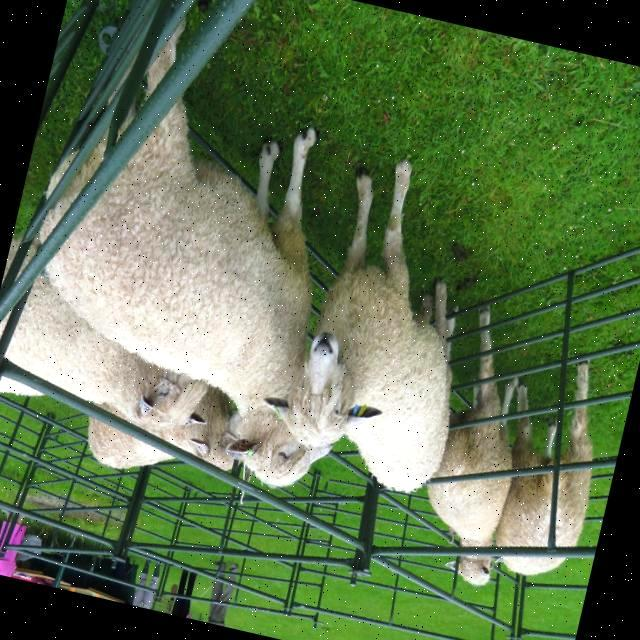sheep: (277, 161, 454, 491)
